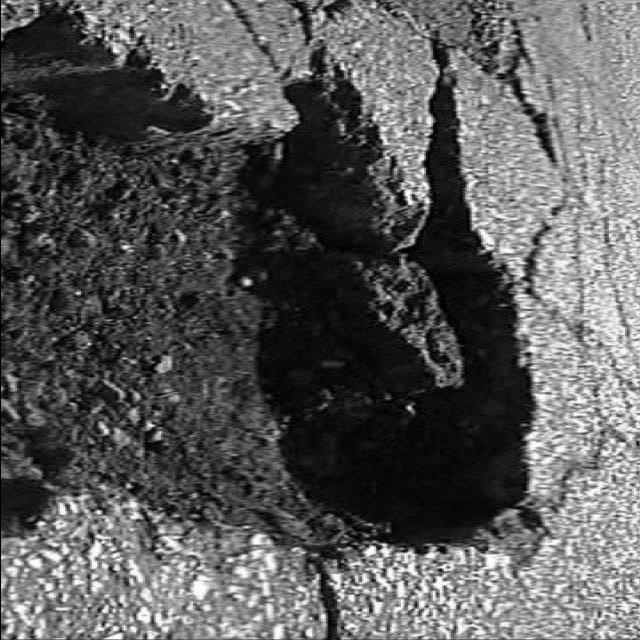jalan retak: (548, 270, 638, 516), (470, 0, 570, 173), (252, 0, 472, 52), (514, 178, 606, 296), (287, 556, 374, 640)
lubang: (1, 1, 582, 576)
